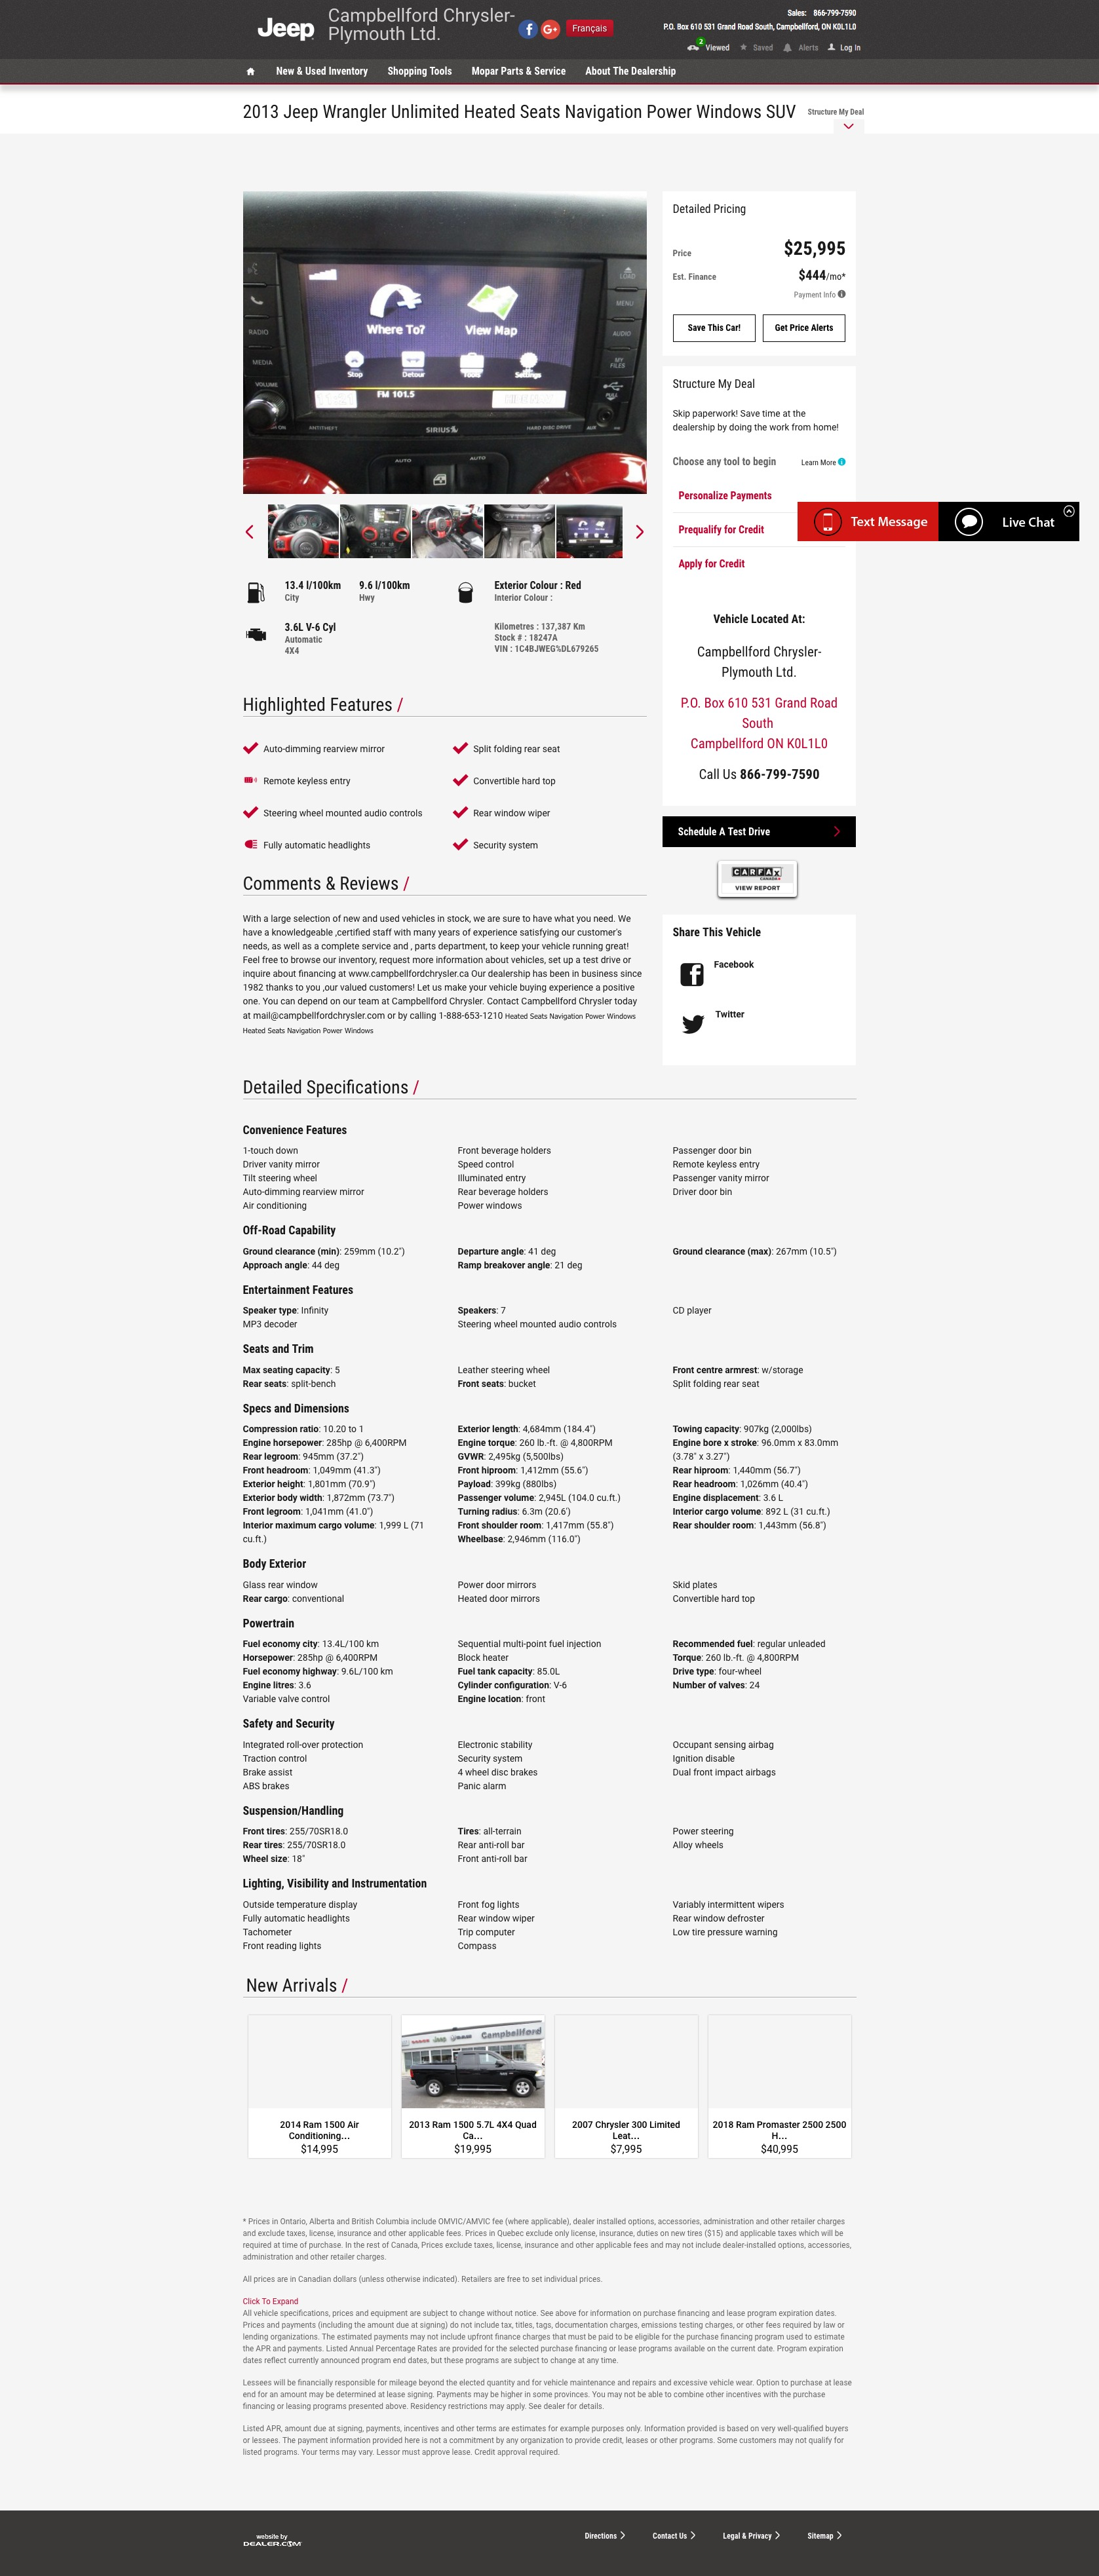car: (636, 524, 647, 540)
